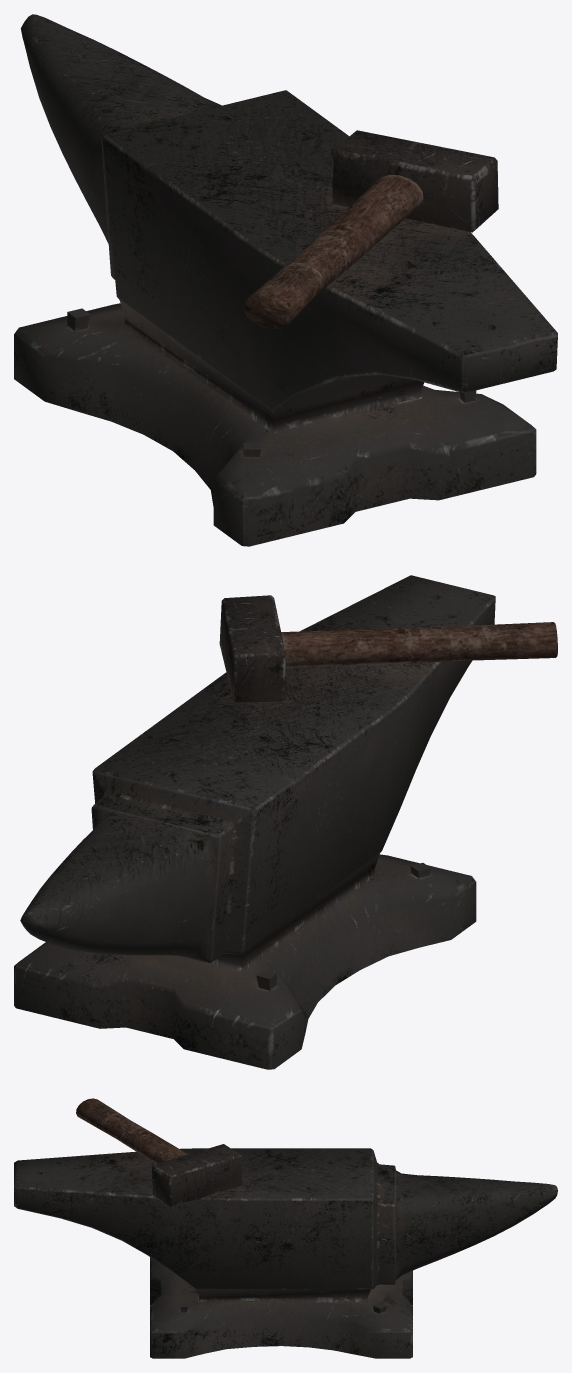
File: anvil.glb
The picture shows the model from 3 angles, top to bottom: view 1: azimuth 30°, elevation 25°; view 2: azimuth 150°, elevation 25°; view 3: azimuth 270°, elevation 25°; orthographic projection. The views are drawn at different scales.
Visible parts, largest first — view 1: Line005_osn_0, Object082_osn_0; view 2: Line005_osn_0, Object082_osn_0; view 3: Line005_osn_0, Object082_osn_0.
Boxes of the visible parts, x1,y1,x2,y2 form: Line005_osn_0: (14,14,557,546); Object082_osn_0: (243,130,498,328); Line005_osn_0: (14,575,495,1069); Object082_osn_0: (219,595,557,703); Line005_osn_0: (14,1148,557,1358); Object082_osn_0: (76,1098,242,1206).
Size of the model in its own units: 41.7 by 36.72 by 103.
Materials: 1 (1 with a texture image).
